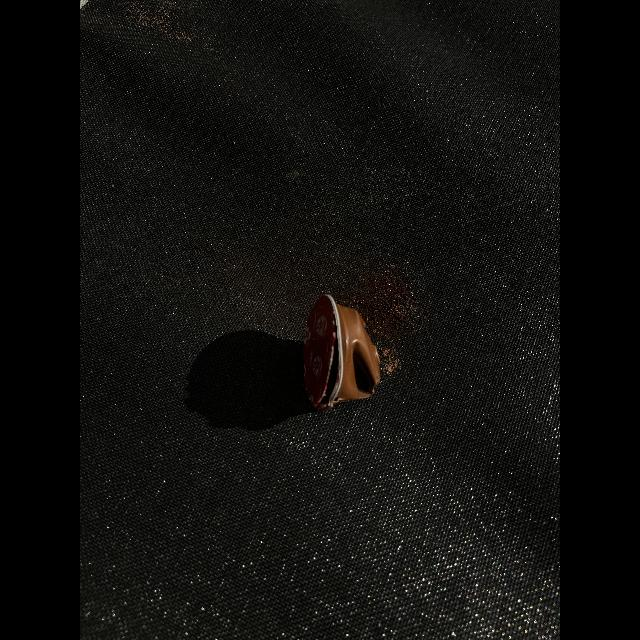damaged_capsule: (299, 290, 389, 412)
